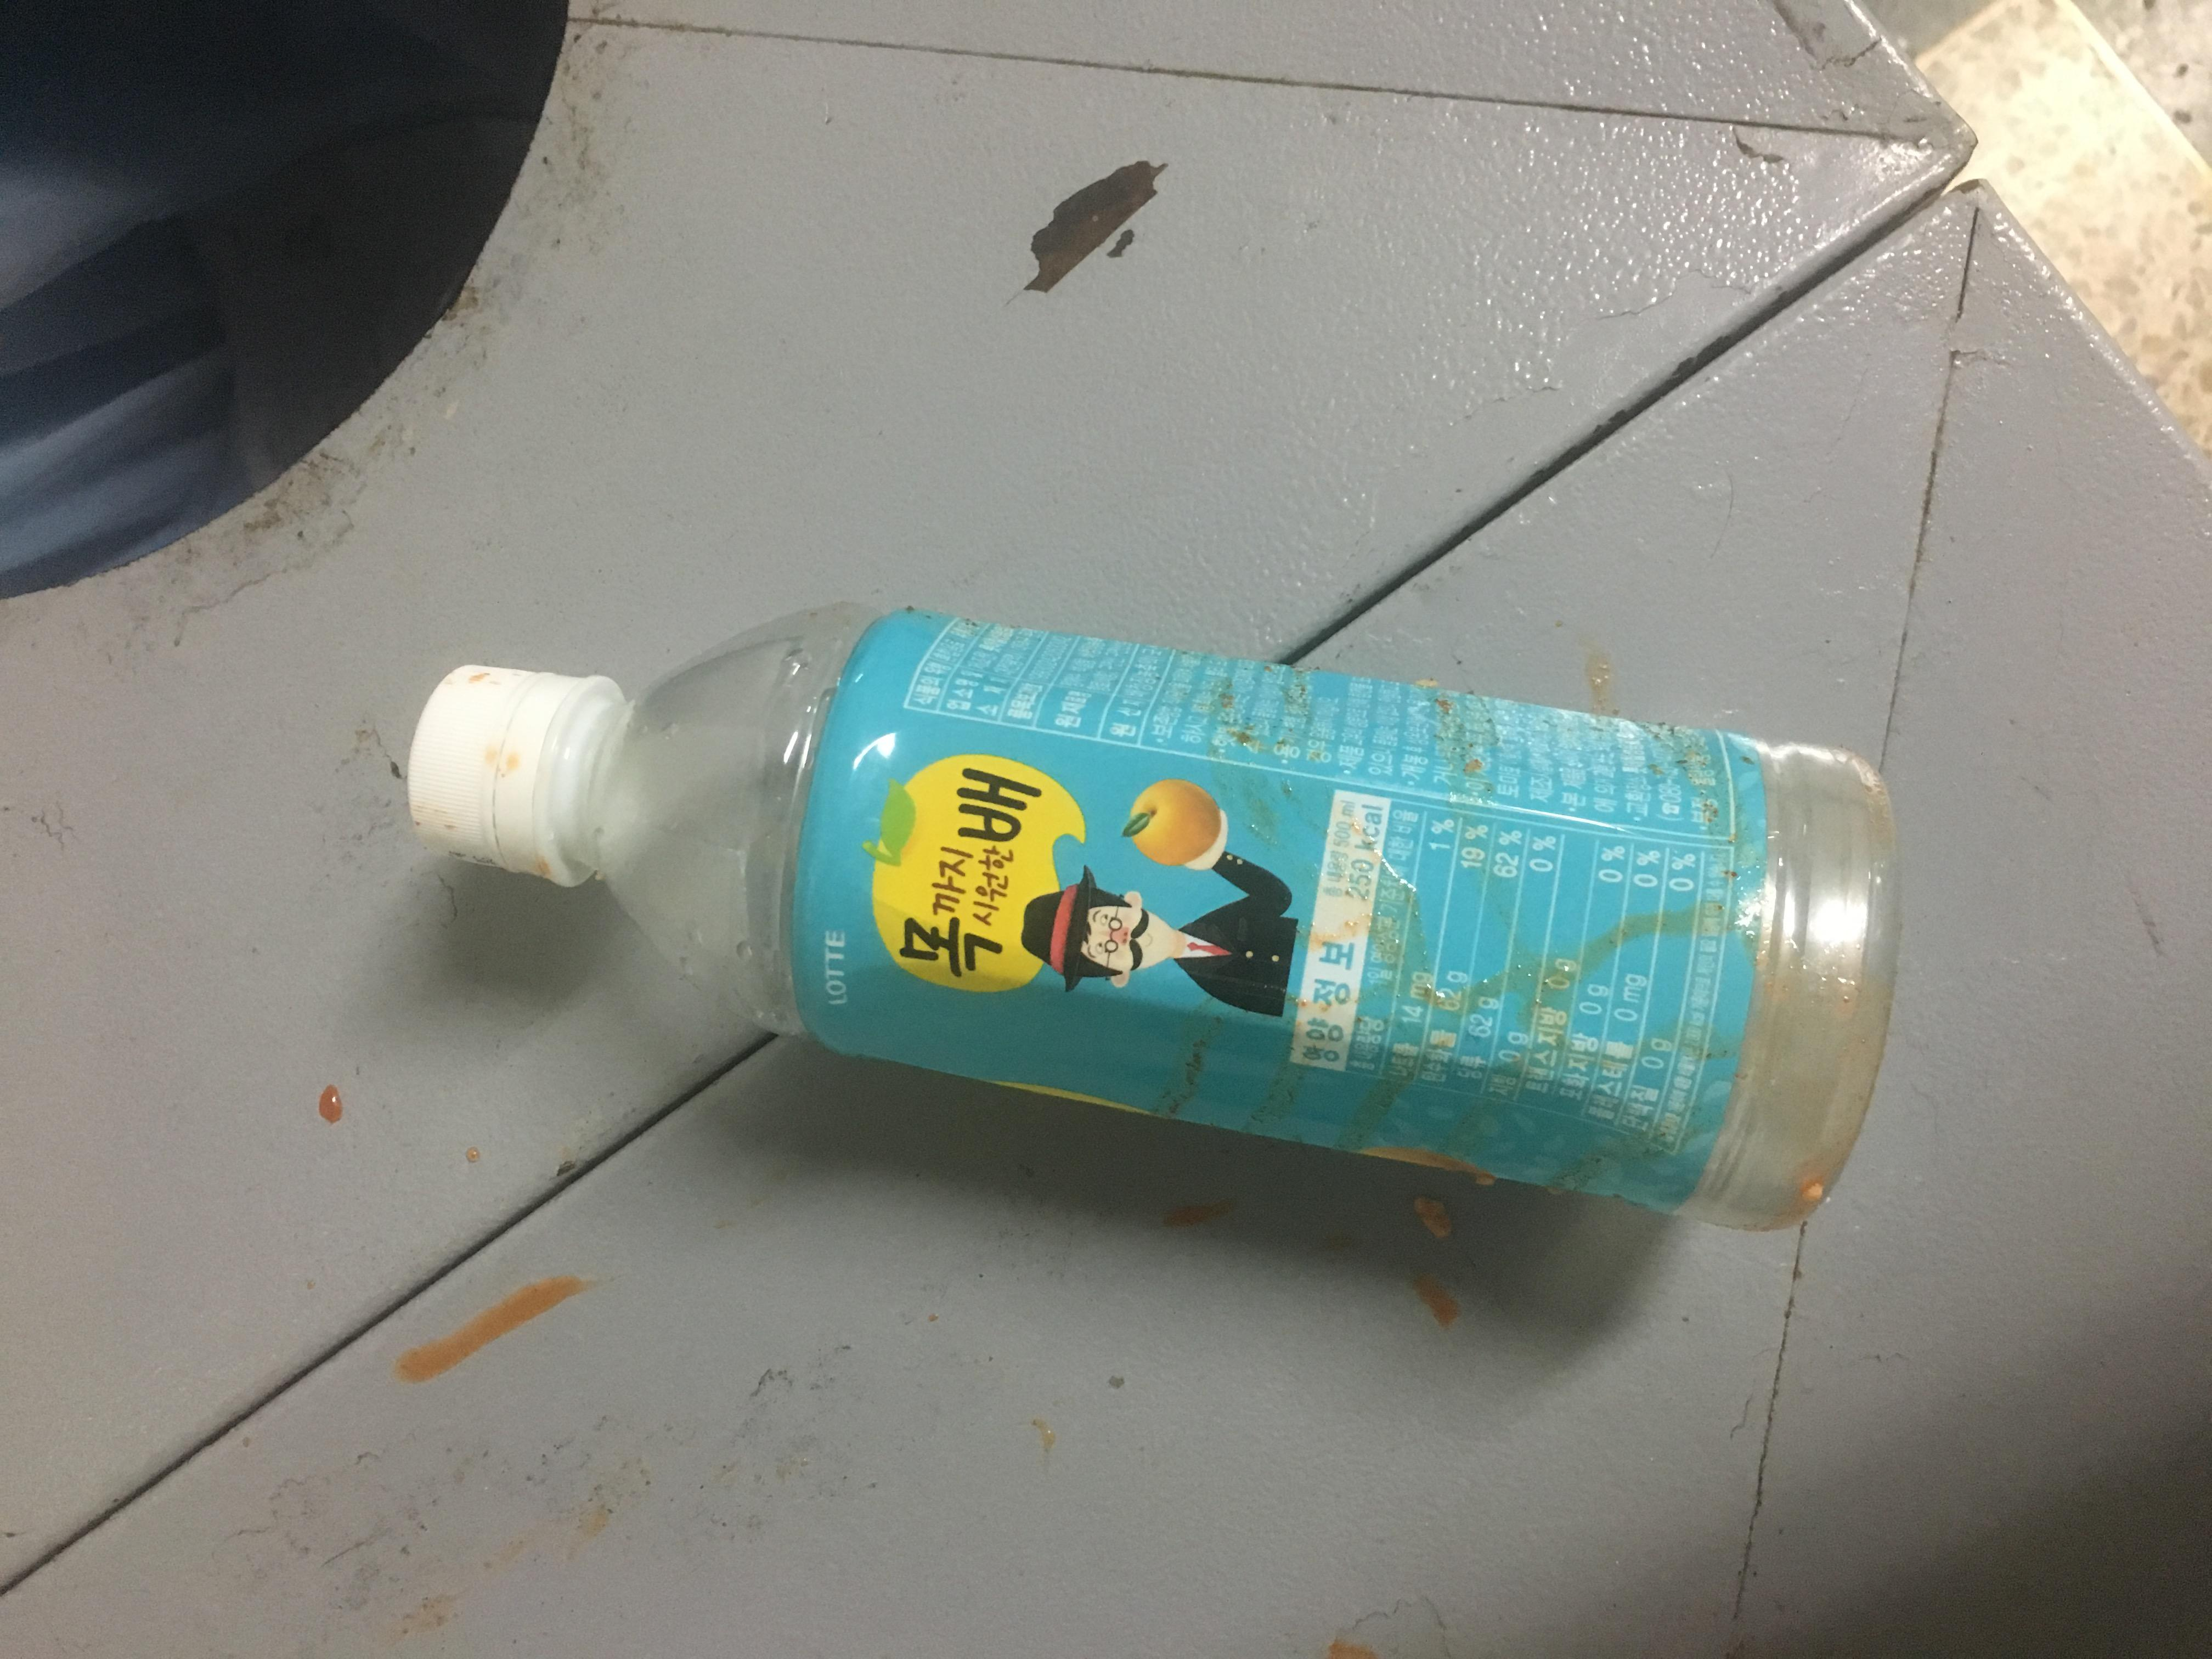bottle: (566, 228, 1364, 1466)
